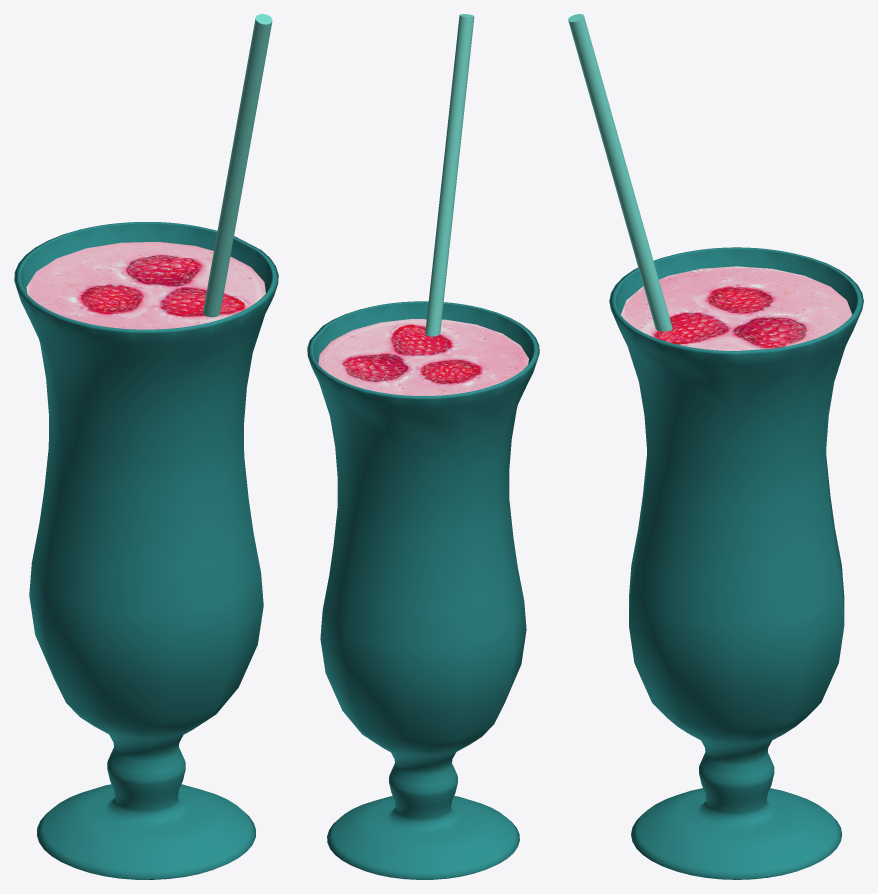
The model's file is LICUADO.fbx.
The picture shows the model from 3 angles, left to right: view 1: azimuth 30°, elevation 25°; view 2: azimuth 150°, elevation 25°; view 3: azimuth 270°, elevation 25°; orthographic projection. The views are drawn at different scales.
Visible parts, largest first — view 1: nurbsToPoly1, revolvedSurface2; view 2: nurbsToPoly1, revolvedSurface2; view 3: nurbsToPoly1, revolvedSurface2.
Part boxes in pixels (x1=…): nurbsToPoly1: x1=14, y1=222, x2=278, y2=879; revolvedSurface2: x1=26, y1=14, x2=272, y2=329; nurbsToPoly1: x1=307, y1=301, x2=539, y2=879; revolvedSurface2: x1=318, y1=14, x2=528, y2=395; nurbsToPoly1: x1=609, y1=247, x2=863, y2=879; revolvedSurface2: x1=568, y1=14, x2=852, y2=350.
Size of the model in its own units: 7 by 25.51 by 8.14.
